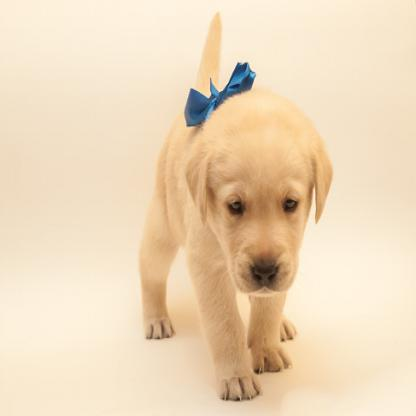Labarador Retriever: (133, 20, 334, 402)
